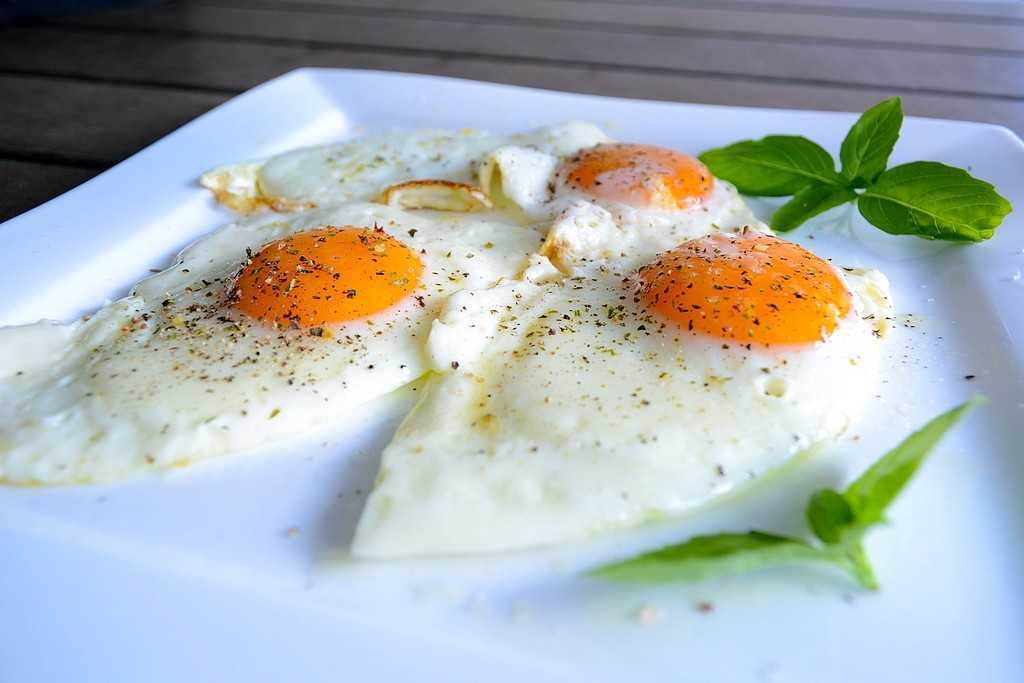fried egg: (237, 174, 840, 405)
